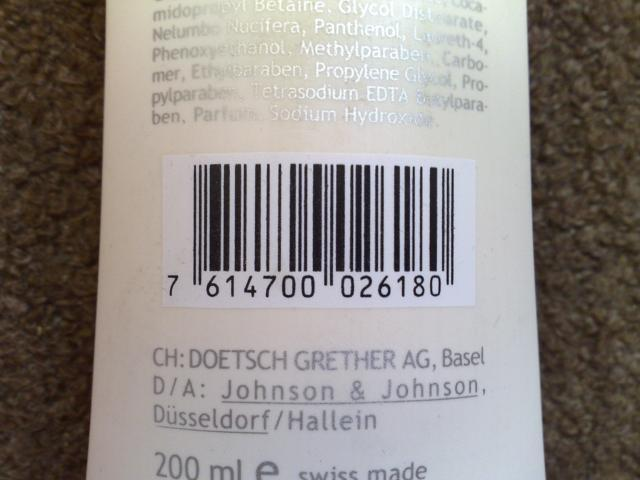Barcode: (161, 154, 477, 308)
